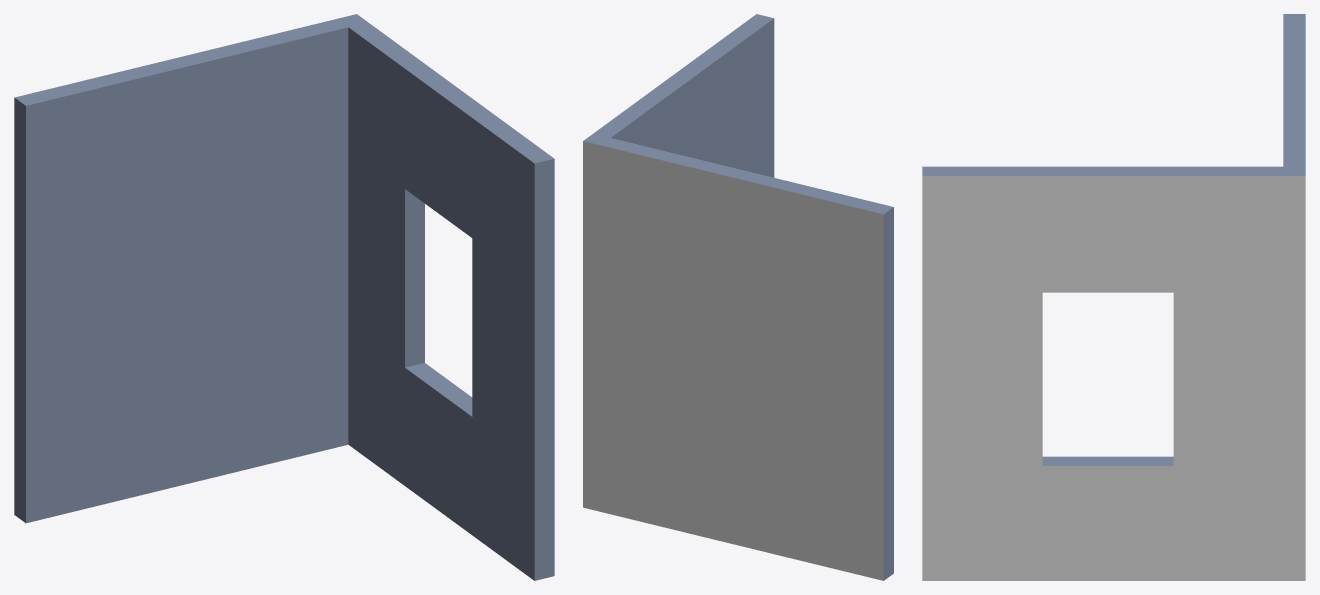
File: Wall1_C3_08.fbx
3 renders of one model, left to right at view 1: azimuth 30°, elevation 25°; view 2: azimuth 150°, elevation 25°; view 3: azimuth 270°, elevation 25°, orthographic. The views are drawn at different scales.
Visible parts, largest first — view 1: Wall1_C3_08; view 2: Wall1_C3_08; view 3: Wall1_C3_08.
Boxes of the visible parts, bbox=[...] form: Wall1_C3_08: bbox=[14, 14, 554, 580]; Wall1_C3_08: bbox=[583, 14, 893, 580]; Wall1_C3_08: bbox=[922, 14, 1305, 580].
Bounding box in the file's own units: 258 × 300 × 258.
